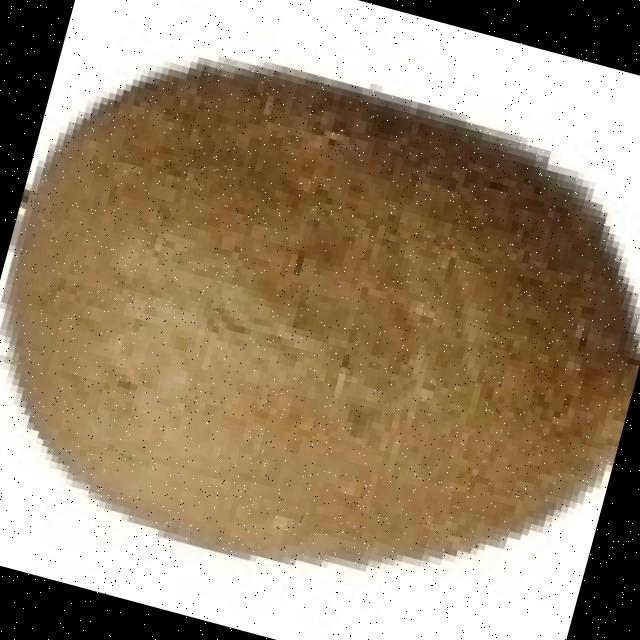kiwi: (0, 74, 625, 561)
